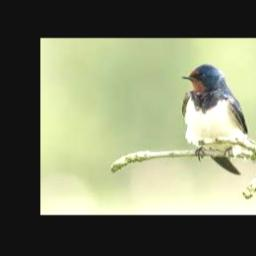Swallow: (180, 64, 247, 175)
